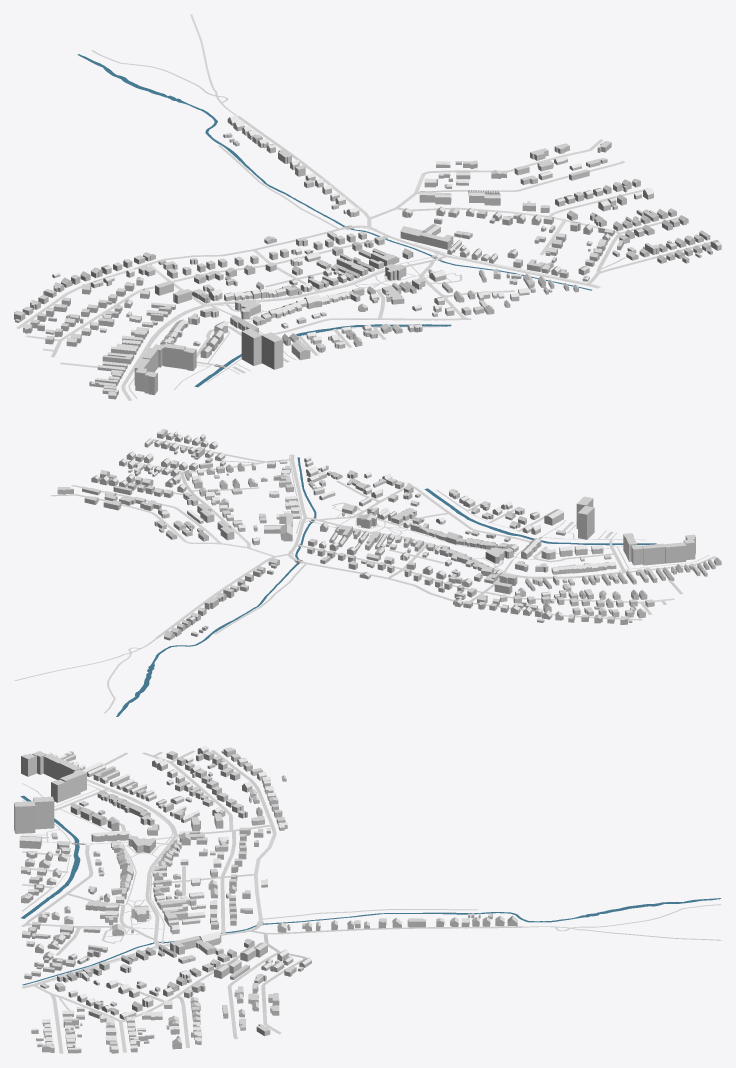
The model's file is objekty.glb.
3 renders of one model, top to bottom at view 1: azimuth 30°, elevation 25°; view 2: azimuth 150°, elevation 25°; view 3: azimuth 270°, elevation 25°, orthographic. The views are drawn at different scales.
Parts seen in each view (by area): view 1: Budovy_01_03, Cesty_01_03, Okna_Dvere_01_03, Voda_01_03; view 2: Budovy_01_03, Cesty_01_03, Okna_Dvere_01_03, Voda_01_03; view 3: Budovy_01_03, Cesty_01_03, Okna_Dvere_01_03, Voda_01_03.
Part boxes in pixels (x1,y1,x2,y2): Budovy_01_03: (14, 115, 721, 399); Cesty_01_03: (16, 14, 710, 400); Okna_Dvere_01_03: (14, 121, 720, 398); Voda_01_03: (77, 54, 591, 387); Budovy_01_03: (57, 429, 721, 640); Cesty_01_03: (14, 439, 716, 713); Okna_Dvere_01_03: (58, 432, 720, 639); Voda_01_03: (116, 457, 656, 716); Budovy_01_03: (14, 745, 517, 1053); Cesty_01_03: (21, 750, 721, 1053); Okna_Dvere_01_03: (14, 750, 503, 1052); Voda_01_03: (20, 795, 720, 985).
Bounding box in the file's own units: 1007 × 47.77 × 1015.
